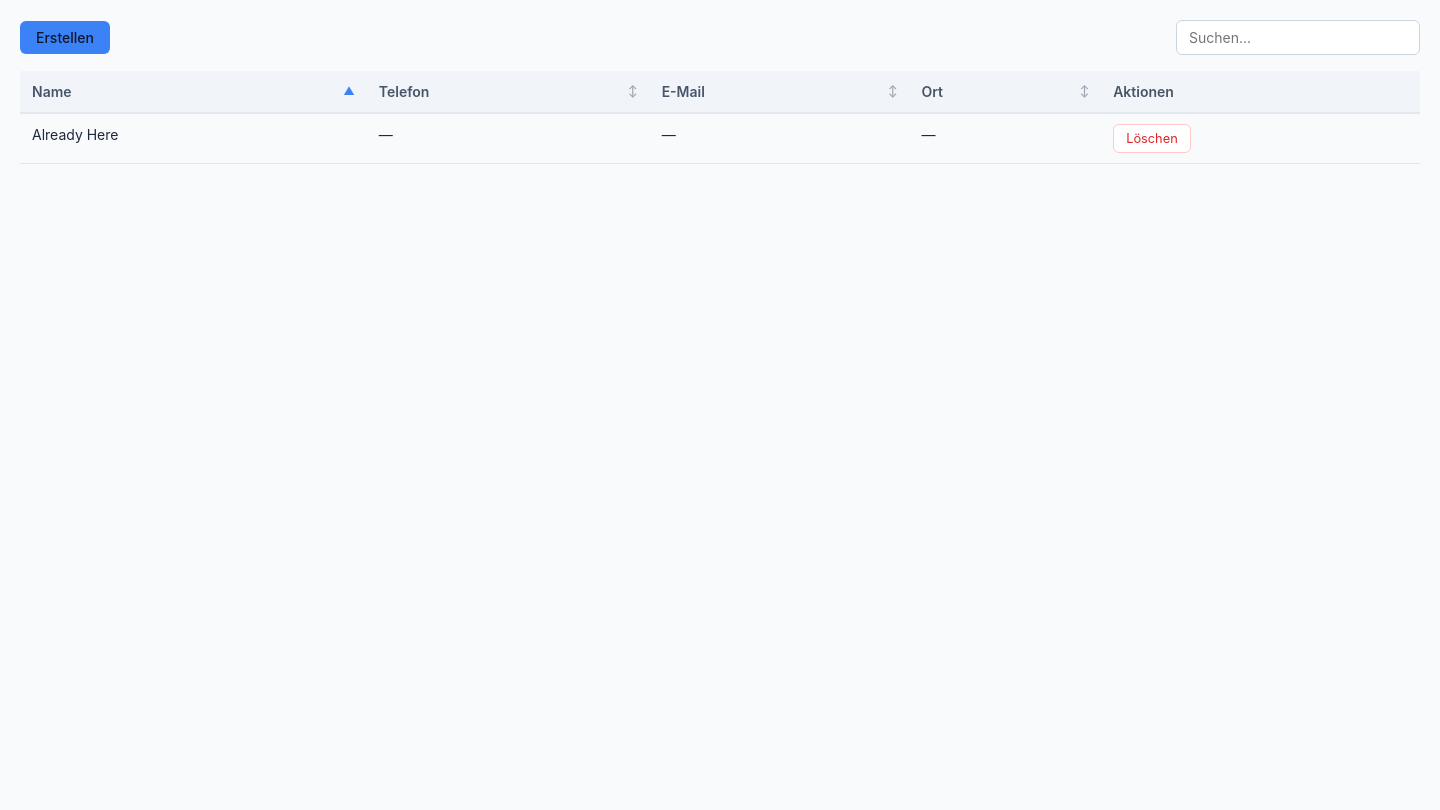
Test: CustomerManagement — IDEMPOTENCY_CONFLICT › closes the create form and refreshes the list
Click the button with test id "customer-create-button". click: (65, 38)
box: top-left (20, 21), bottom-right (110, 54)
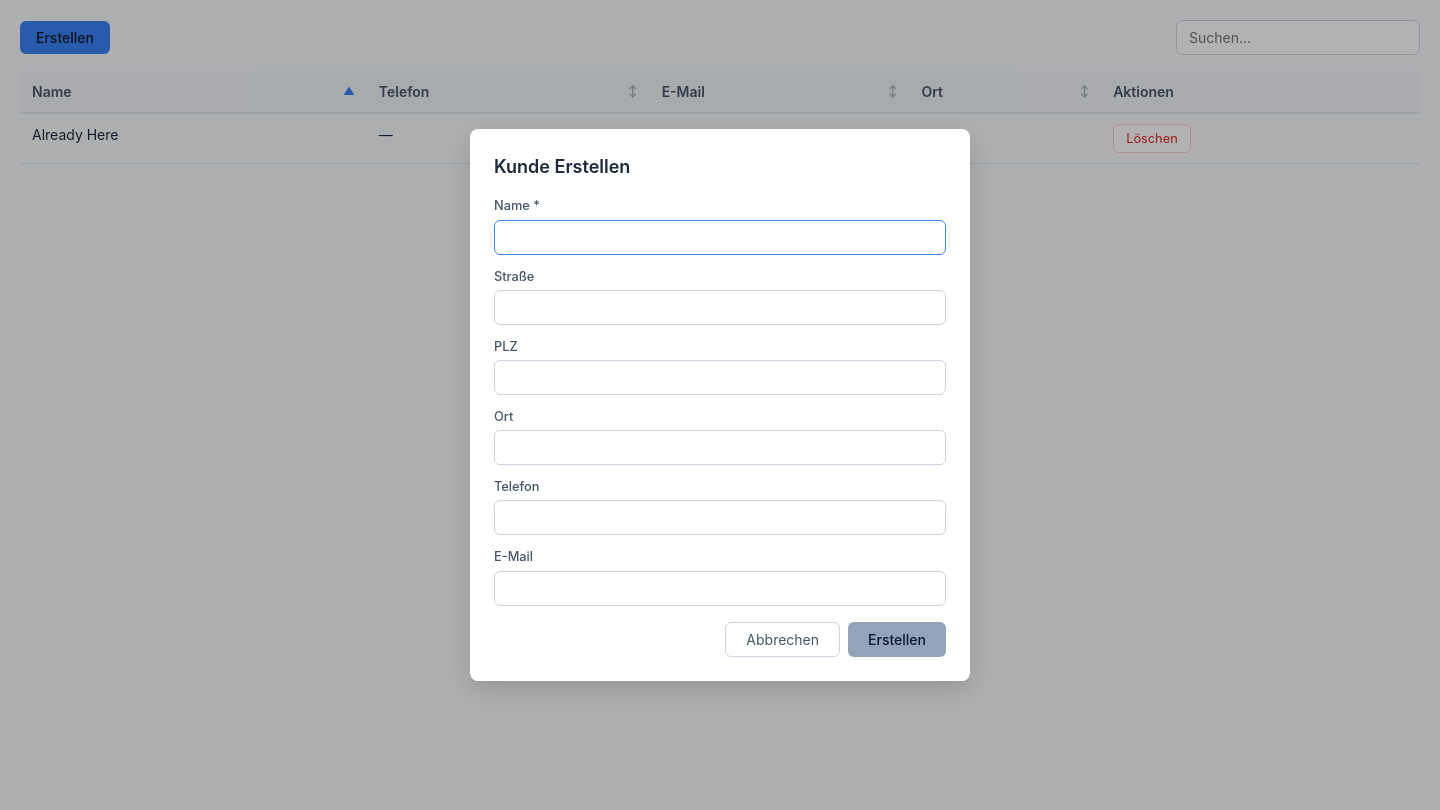
Type "Xyz" into the field with test id "customer-name-input". click: (720, 237)
box: top-left (494, 220), bottom-right (946, 255)
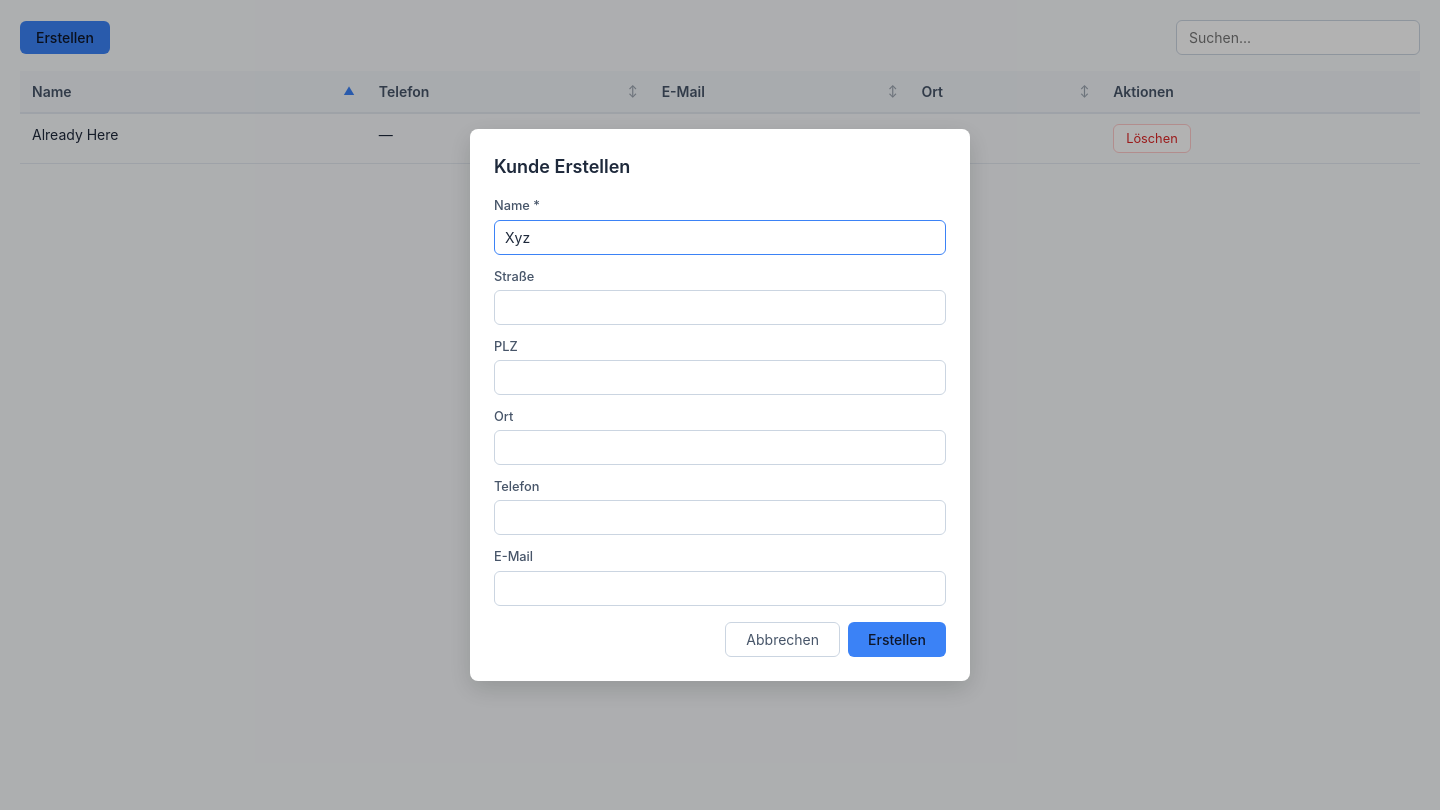
Click the button with test id "customer-submit". click: (897, 639)
box: top-left (848, 622), bottom-right (946, 657)
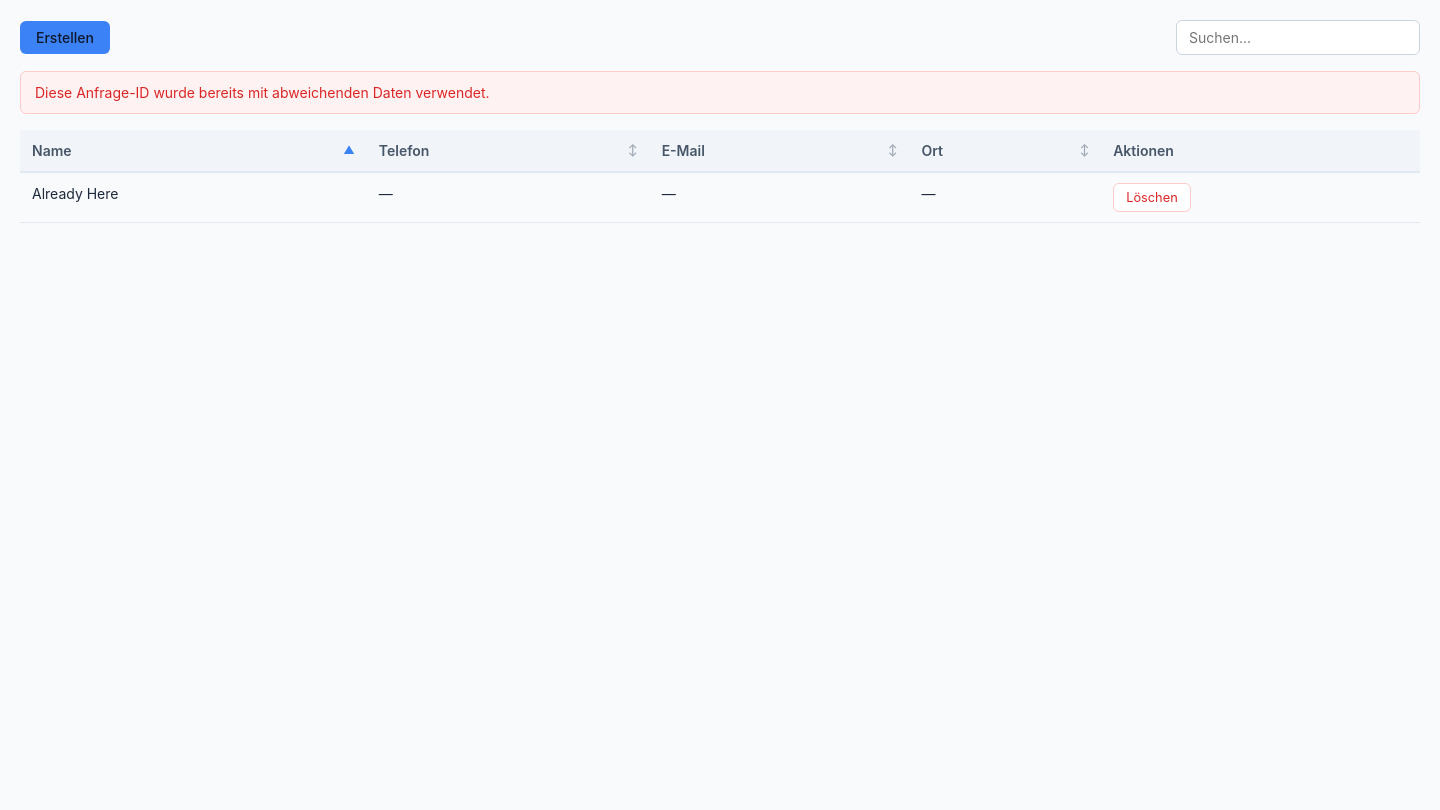
Check: the button with test id "customer-submit" is gone
Check: the text "Diese Anfrage-ID wurde bereits mit abweichenden Daten verwendet." is shown, box top-left (20, 71), bottom-right (1420, 114)
